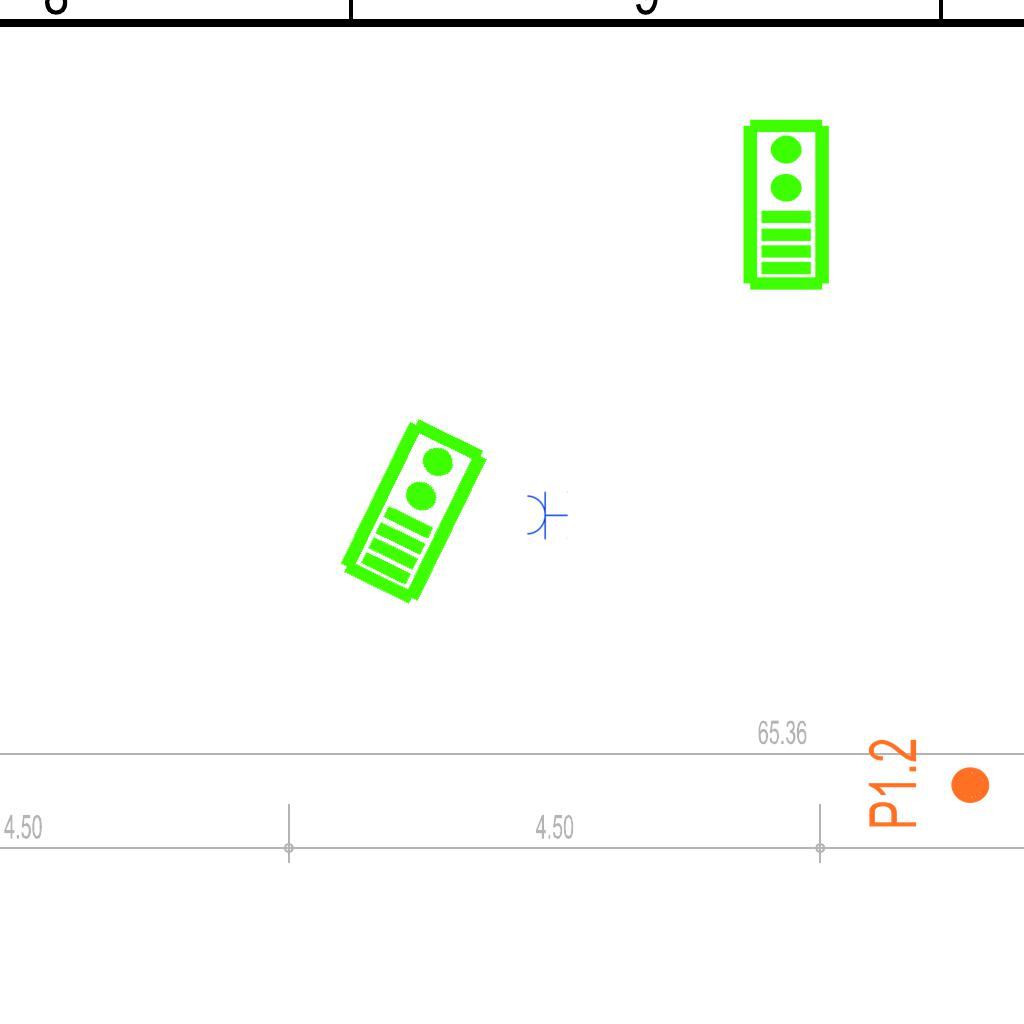Downlight_LED_Einbauleuchten_Flur: (865, 737, 993, 830)
Gegensprechanlage_mit_Video: (331, 410, 494, 610), (737, 116, 832, 292)
Schukosteckdose_einfach: (525, 490, 568, 540)
